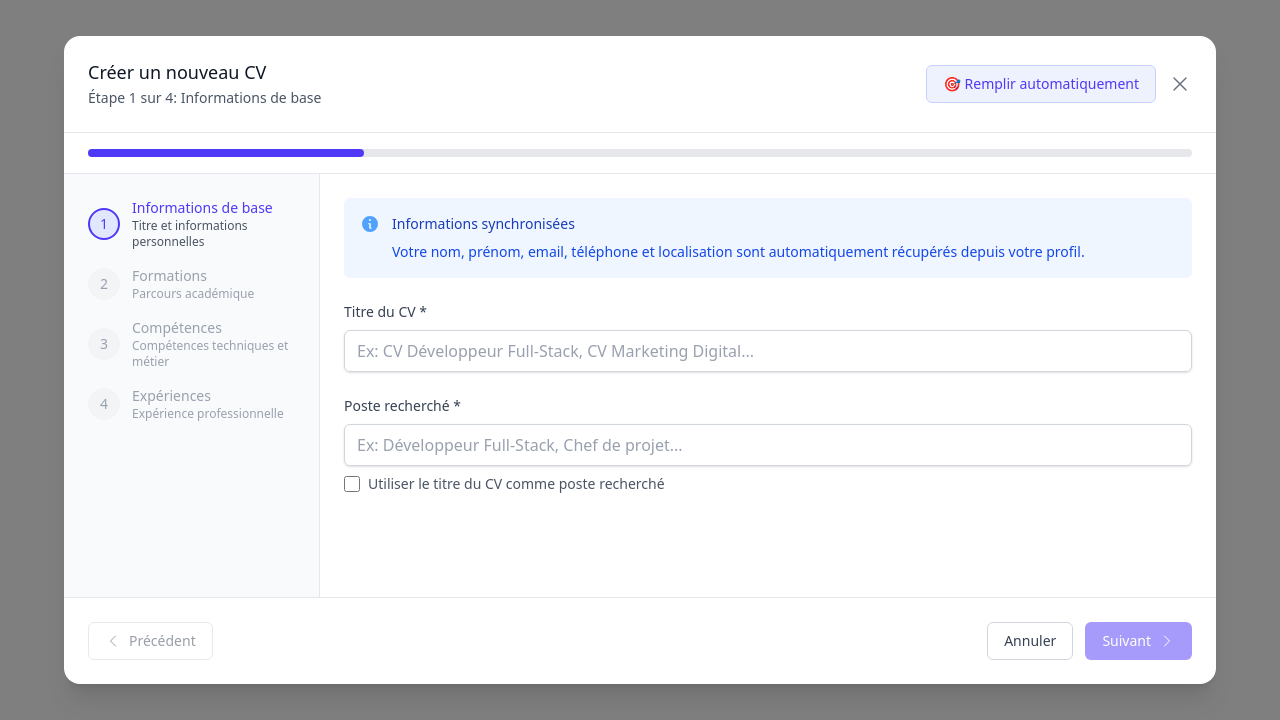
Test: CreateCVWizard Component › should auto-fill data and go to final step
Note: Cliquer sur le bouton d'auto-remplissage
Step 1. Click the button "🎯 Remplir automatiquement" → [1041, 84], box [926,65,1156,103]
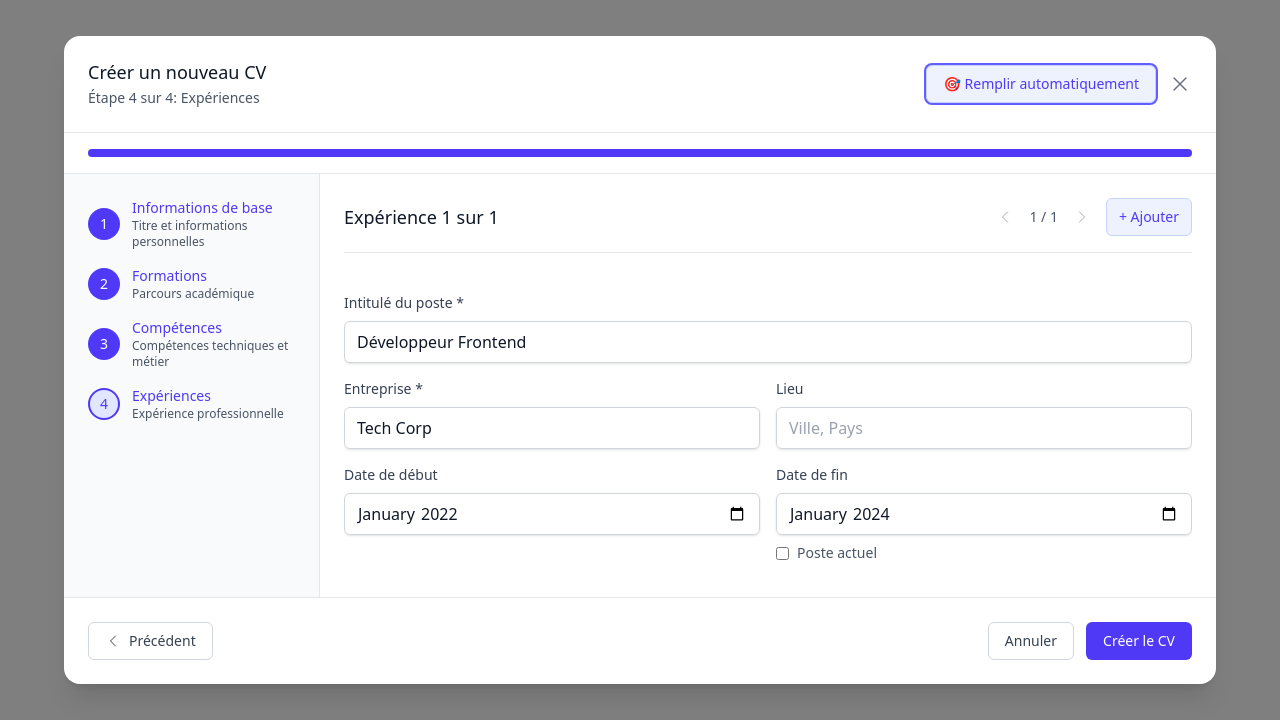
Result: the button "Créer le CV" is shown at [1086,622,1192,660]
Result: the text "Étape 4 sur 4: Expériences" is shown at [88,88,266,108]
